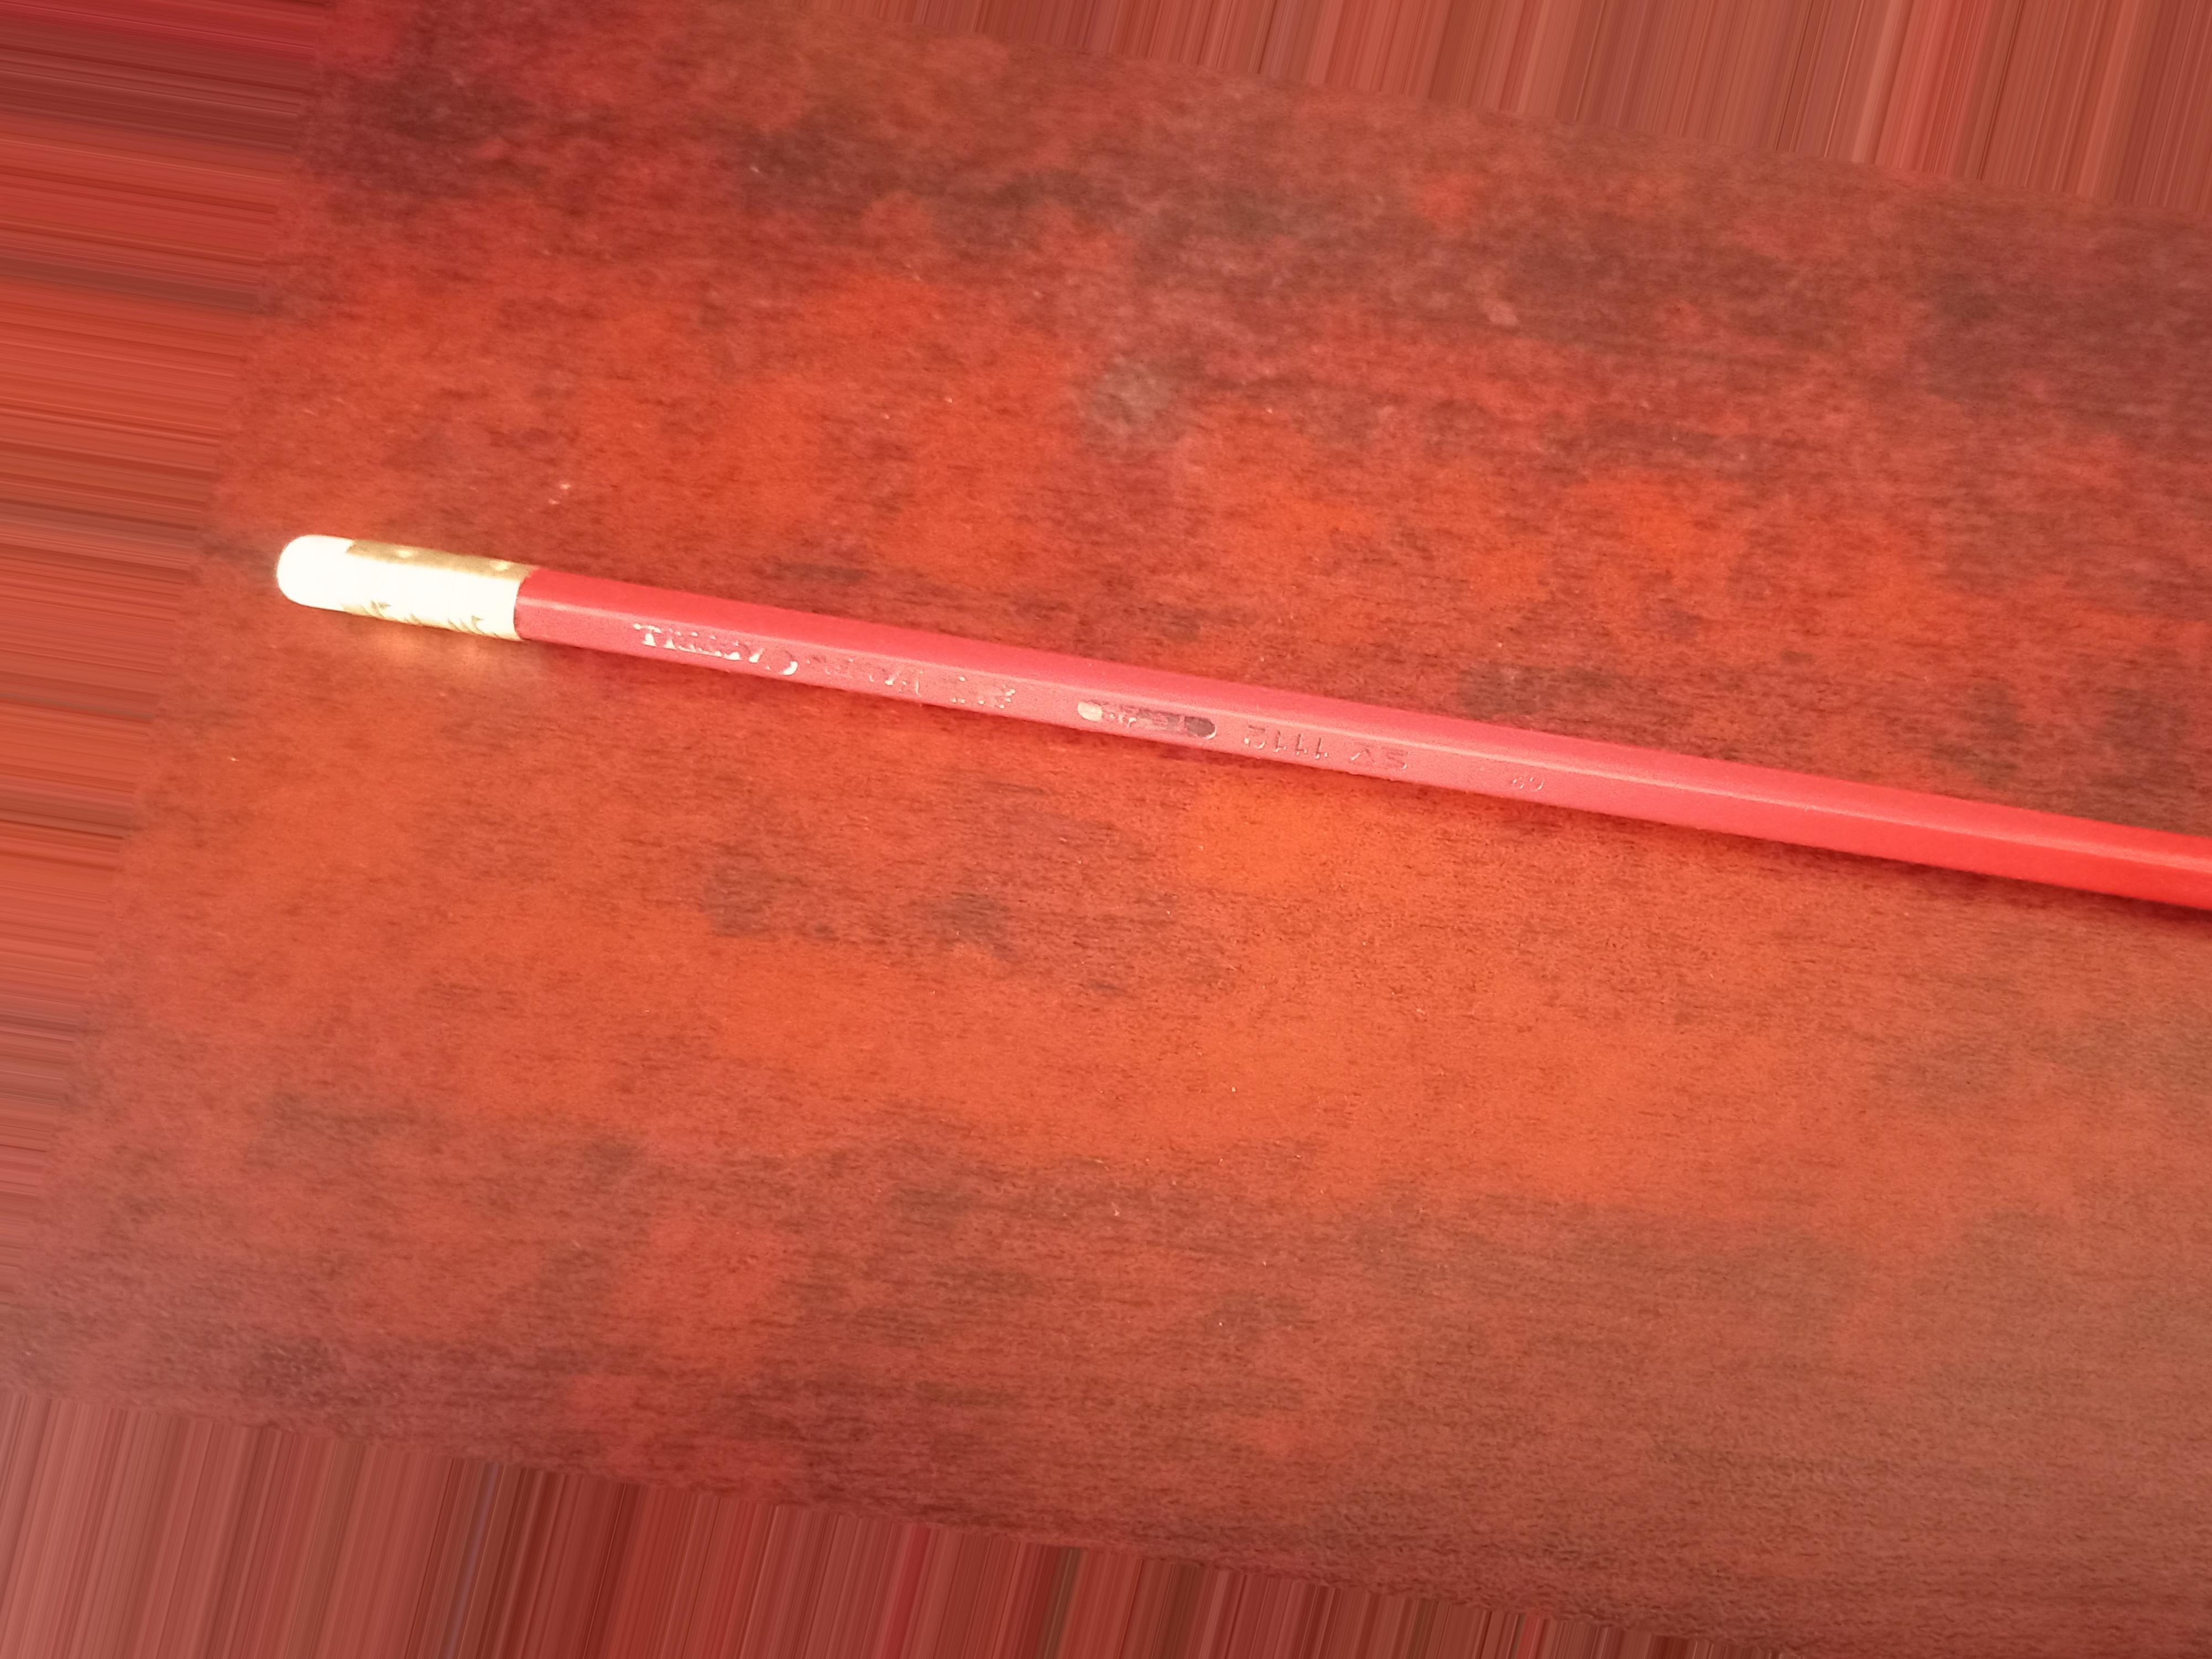pencil: (244, 525, 2212, 936)
